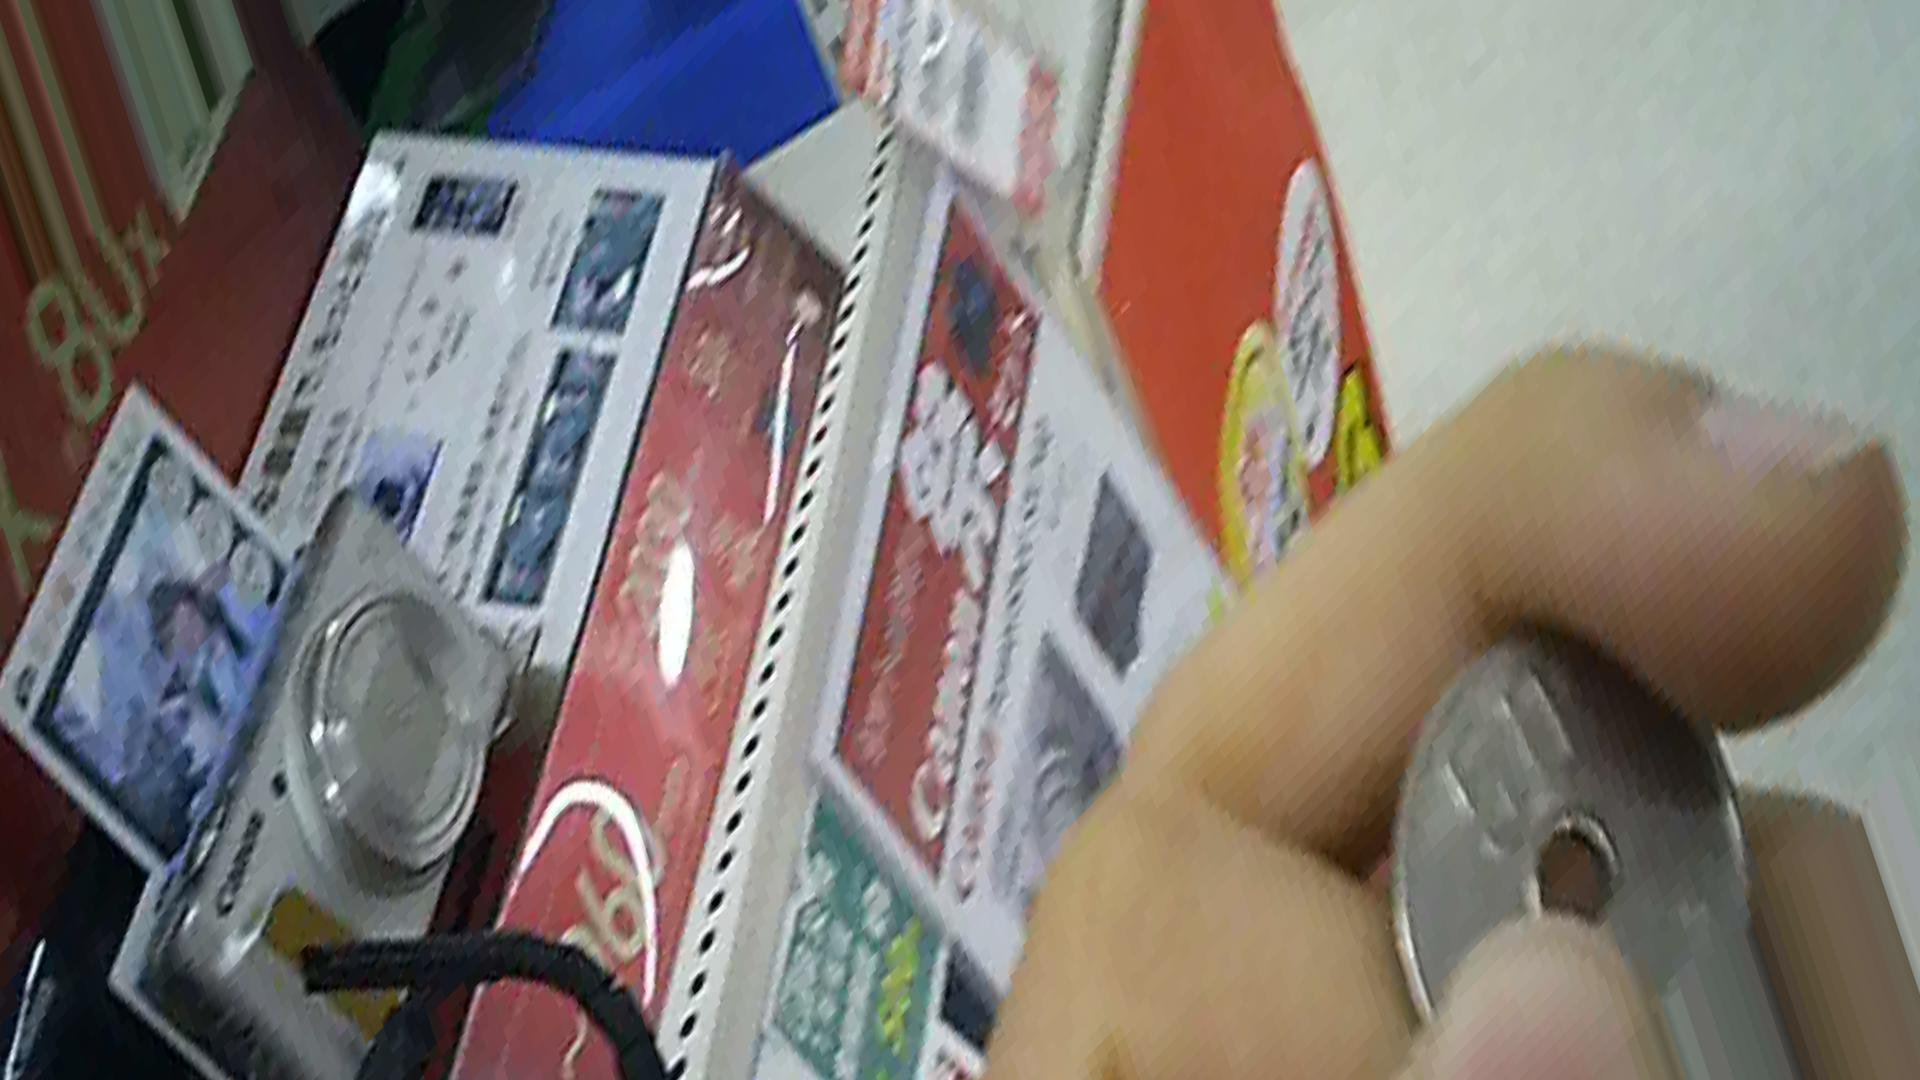50 Yen: (1408, 655, 1753, 1033)
